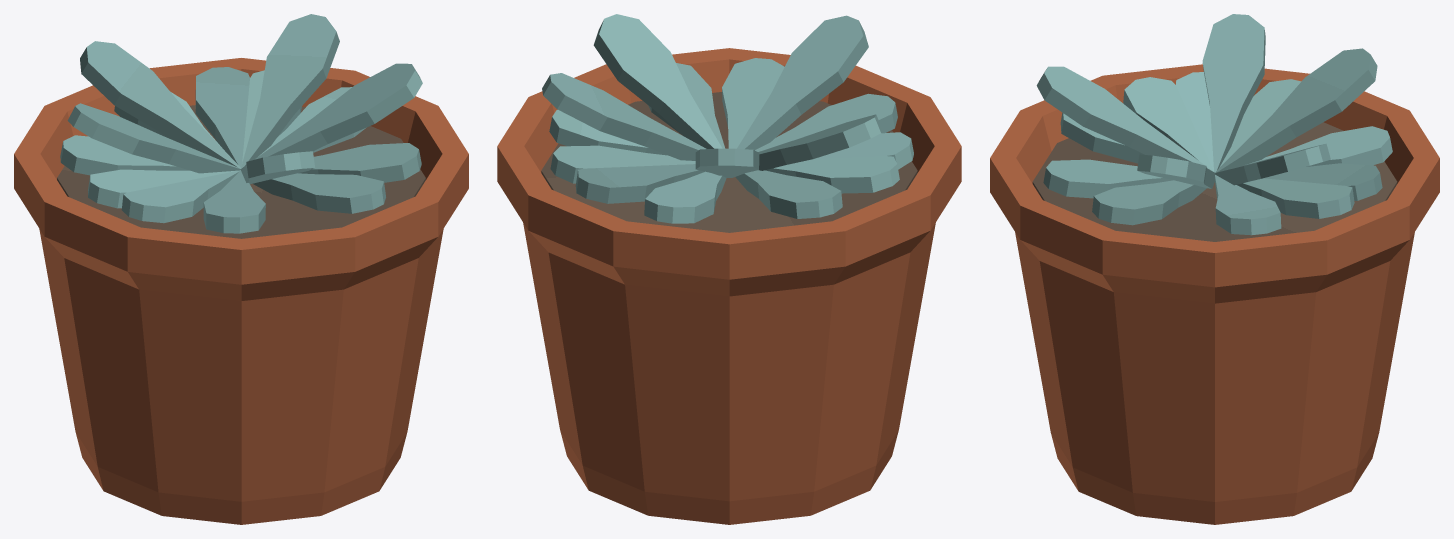
The model's file is rosette.glb.
3 views of the same model, side by side, from view 1: azimuth 30°, elevation 25°; view 2: azimuth 150°, elevation 25°; view 3: azimuth 270°, elevation 25° (orthographic). The views are drawn at different scales.
Parts seen in each view (by area): view 1: rosette/review-terra-vessel, rosette/review-rooted-soil, rosette/leaf-014, rosette/leaf-012, rosette/leaf-011, rosette/leaf-015, rosette/leaf-009, rosette/leaf-008, rosette/leaf-010, rosette/leaf-003, rosette/leaf-005, rosette/leaf-007 (+5 smaller); view 2: rosette/review-terra-vessel, rosette/review-rooted-soil, rosette/leaf-013, rosette/leaf-011, rosette/leaf-014, rosette/leaf-007, rosette/leaf-009, rosette/leaf-008, rosette/leaf-002, rosette/leaf-004, rosette/leaf-015, rosette/leaf-005 (+5 smaller); view 3: rosette/review-terra-vessel, rosette/review-rooted-soil, rosette/leaf-012, rosette/leaf-015, rosette/leaf-013, rosette/leaf-010, rosette/leaf-003, rosette/leaf-008, rosette/leaf-001, rosette/leaf-006, rosette/leaf-004, rosette/leaf-009 (+5 smaller).
Part boxes in pixels (x1=…): rosette/review-terra-vessel: x1=14, y1=58, x2=468, y2=524; rosette/review-rooted-soil: x1=57, y1=105, x2=425, y2=238; rosette/leaf-014: x1=241, y1=14, x2=339, y2=168; rosette/leaf-012: x1=80, y1=41, x2=241, y2=168; rosette/leaf-011: x1=254, y1=63, x2=422, y2=159; rosette/leaf-015: x1=67, y1=103, x2=240, y2=173; rosette/leaf-009: x1=195, y1=67, x2=249, y2=167; rosette/leaf-008: x1=253, y1=173, x2=385, y2=213; rosette/leaf-010: x1=121, y1=170, x2=240, y2=223; rosette/leaf-003: x1=298, y1=143, x2=421, y2=182; rosette/leaf-005: x1=203, y1=171, x2=265, y2=233; rosette/leaf-007: x1=60, y1=135, x2=189, y2=175; rosette/review-terra-vessel: x1=497, y1=48, x2=961, y2=524; rosette/review-rooted-soil: x1=541, y1=92, x2=917, y2=232; rosette/leaf-013: x1=737, y1=15, x2=868, y2=150; rosette/leaf-011: x1=593, y1=14, x2=722, y2=148; rosette/leaf-014: x1=542, y1=73, x2=706, y2=160; rosette/leaf-007: x1=735, y1=170, x2=842, y2=218; rosette/leaf-009: x1=575, y1=164, x2=704, y2=203; rosette/leaf-008: x1=722, y1=58, x2=784, y2=148; rosette/leaf-002: x1=765, y1=156, x2=899, y2=193; rosette/leaf-004: x1=644, y1=171, x2=726, y2=223; rosette/leaf-015: x1=758, y1=114, x2=882, y2=170; rosette/leaf-005: x1=755, y1=93, x2=897, y2=151; rosette/review-terra-vessel: x1=990, y1=64, x2=1439, y2=524; rosette/review-rooted-soil: x1=1032, y1=122, x2=1397, y2=241; rosette/leaf-012: x1=1215, y1=48, x2=1377, y2=172; rosette/leaf-015: x1=1202, y1=14, x2=1265, y2=172; rosette/leaf-013: x1=1036, y1=66, x2=1213, y2=171; rosette/leaf-010: x1=1123, y1=77, x2=1213, y2=171; rosette/leaf-003: x1=1092, y1=180, x2=1206, y2=225; rosette/leaf-008: x1=1043, y1=159, x2=1172, y2=198; rosette/leaf-001: x1=1236, y1=178, x2=1354, y2=218; rosette/leaf-006: x1=1215, y1=175, x2=1281, y2=235; rosette/leaf-004: x1=1247, y1=126, x2=1392, y2=166; rosette/leaf-009: x1=1264, y1=163, x2=1382, y2=200.
Bounding box in the file's own units: 0.19 × 0.1731 × 0.19.
Materials: 3 (3 with a texture image).
